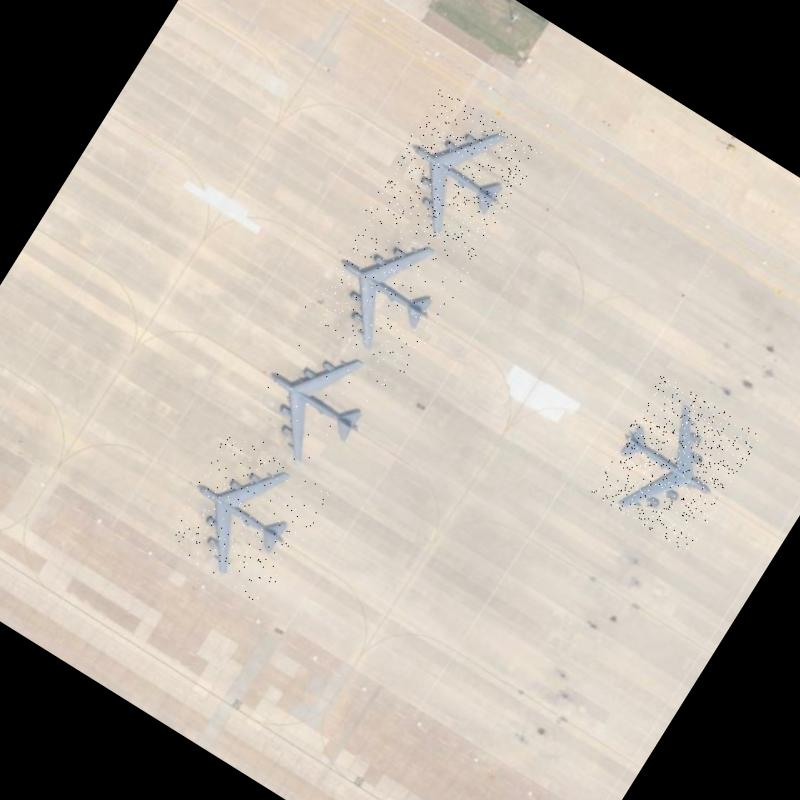A8: (588, 373, 762, 554), (298, 201, 473, 380), (369, 88, 542, 265), (159, 429, 332, 606), (228, 315, 400, 492)
